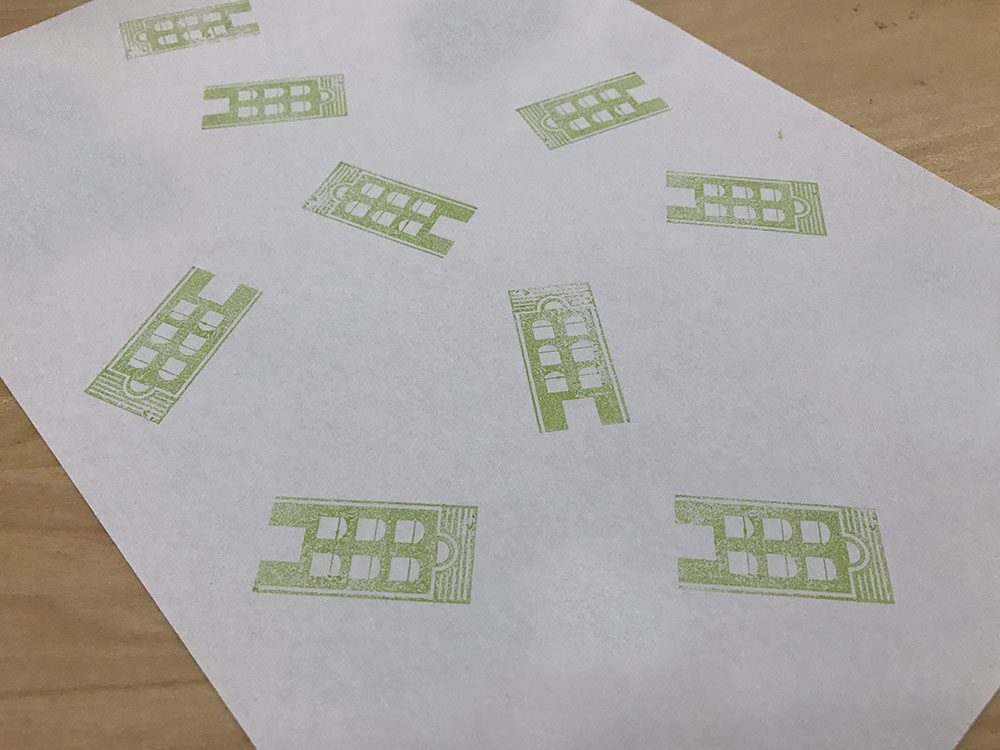build: (61, 250, 276, 445), (233, 482, 497, 623), (654, 482, 910, 616), (280, 144, 494, 273), (496, 274, 644, 444), (649, 151, 852, 259), (498, 60, 683, 162), (189, 63, 361, 140), (106, 1, 283, 75)
